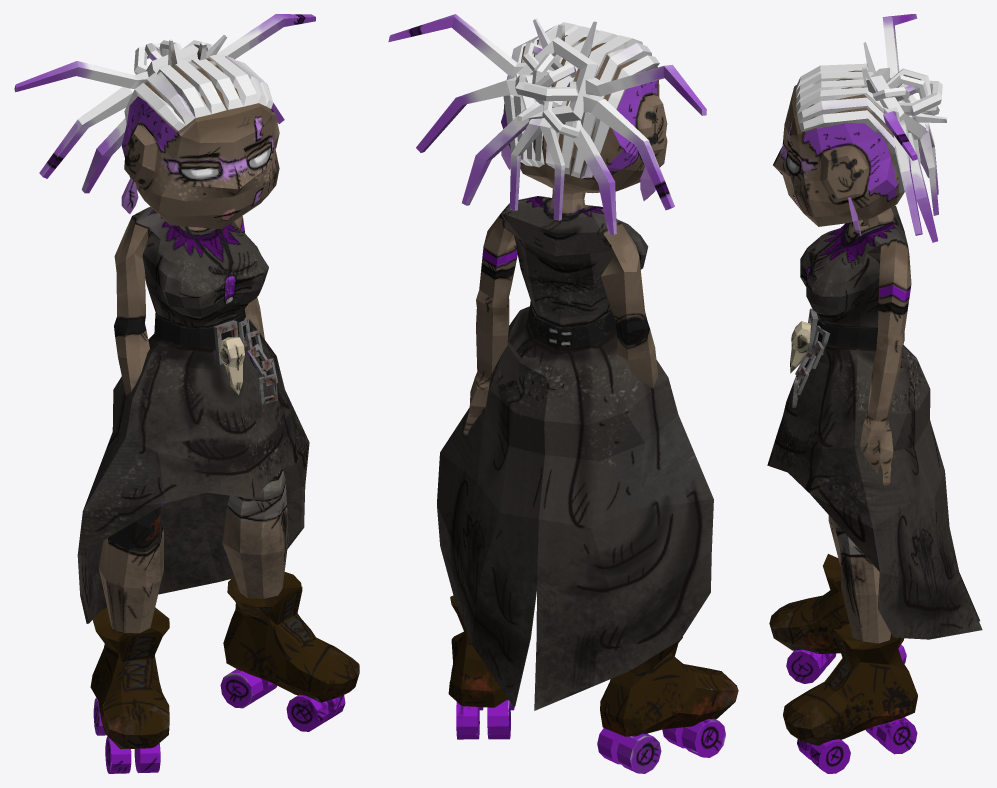
File: bruja_000047.obj
3 renders of one model, left to right at view 1: azimuth 30°, elevation 25°; view 2: azimuth 150°, elevation 25°; view 3: azimuth 270°, elevation 25°, orthographic. The views are drawn at different scales.
Visible parts, largest first — view 1: Bruja_Plane.001; view 2: Bruja_Plane.001; view 3: Bruja_Plane.001.
Part boxes in pixels (x1,y1,x2,y2): Bruja_Plane.001: (14,14,359,773); Bruja_Plane.001: (388,14,738,773); Bruja_Plane.001: (767,14,982,773).
Size of the model in its own units: 7.48 by 16.58 by 4.86.
